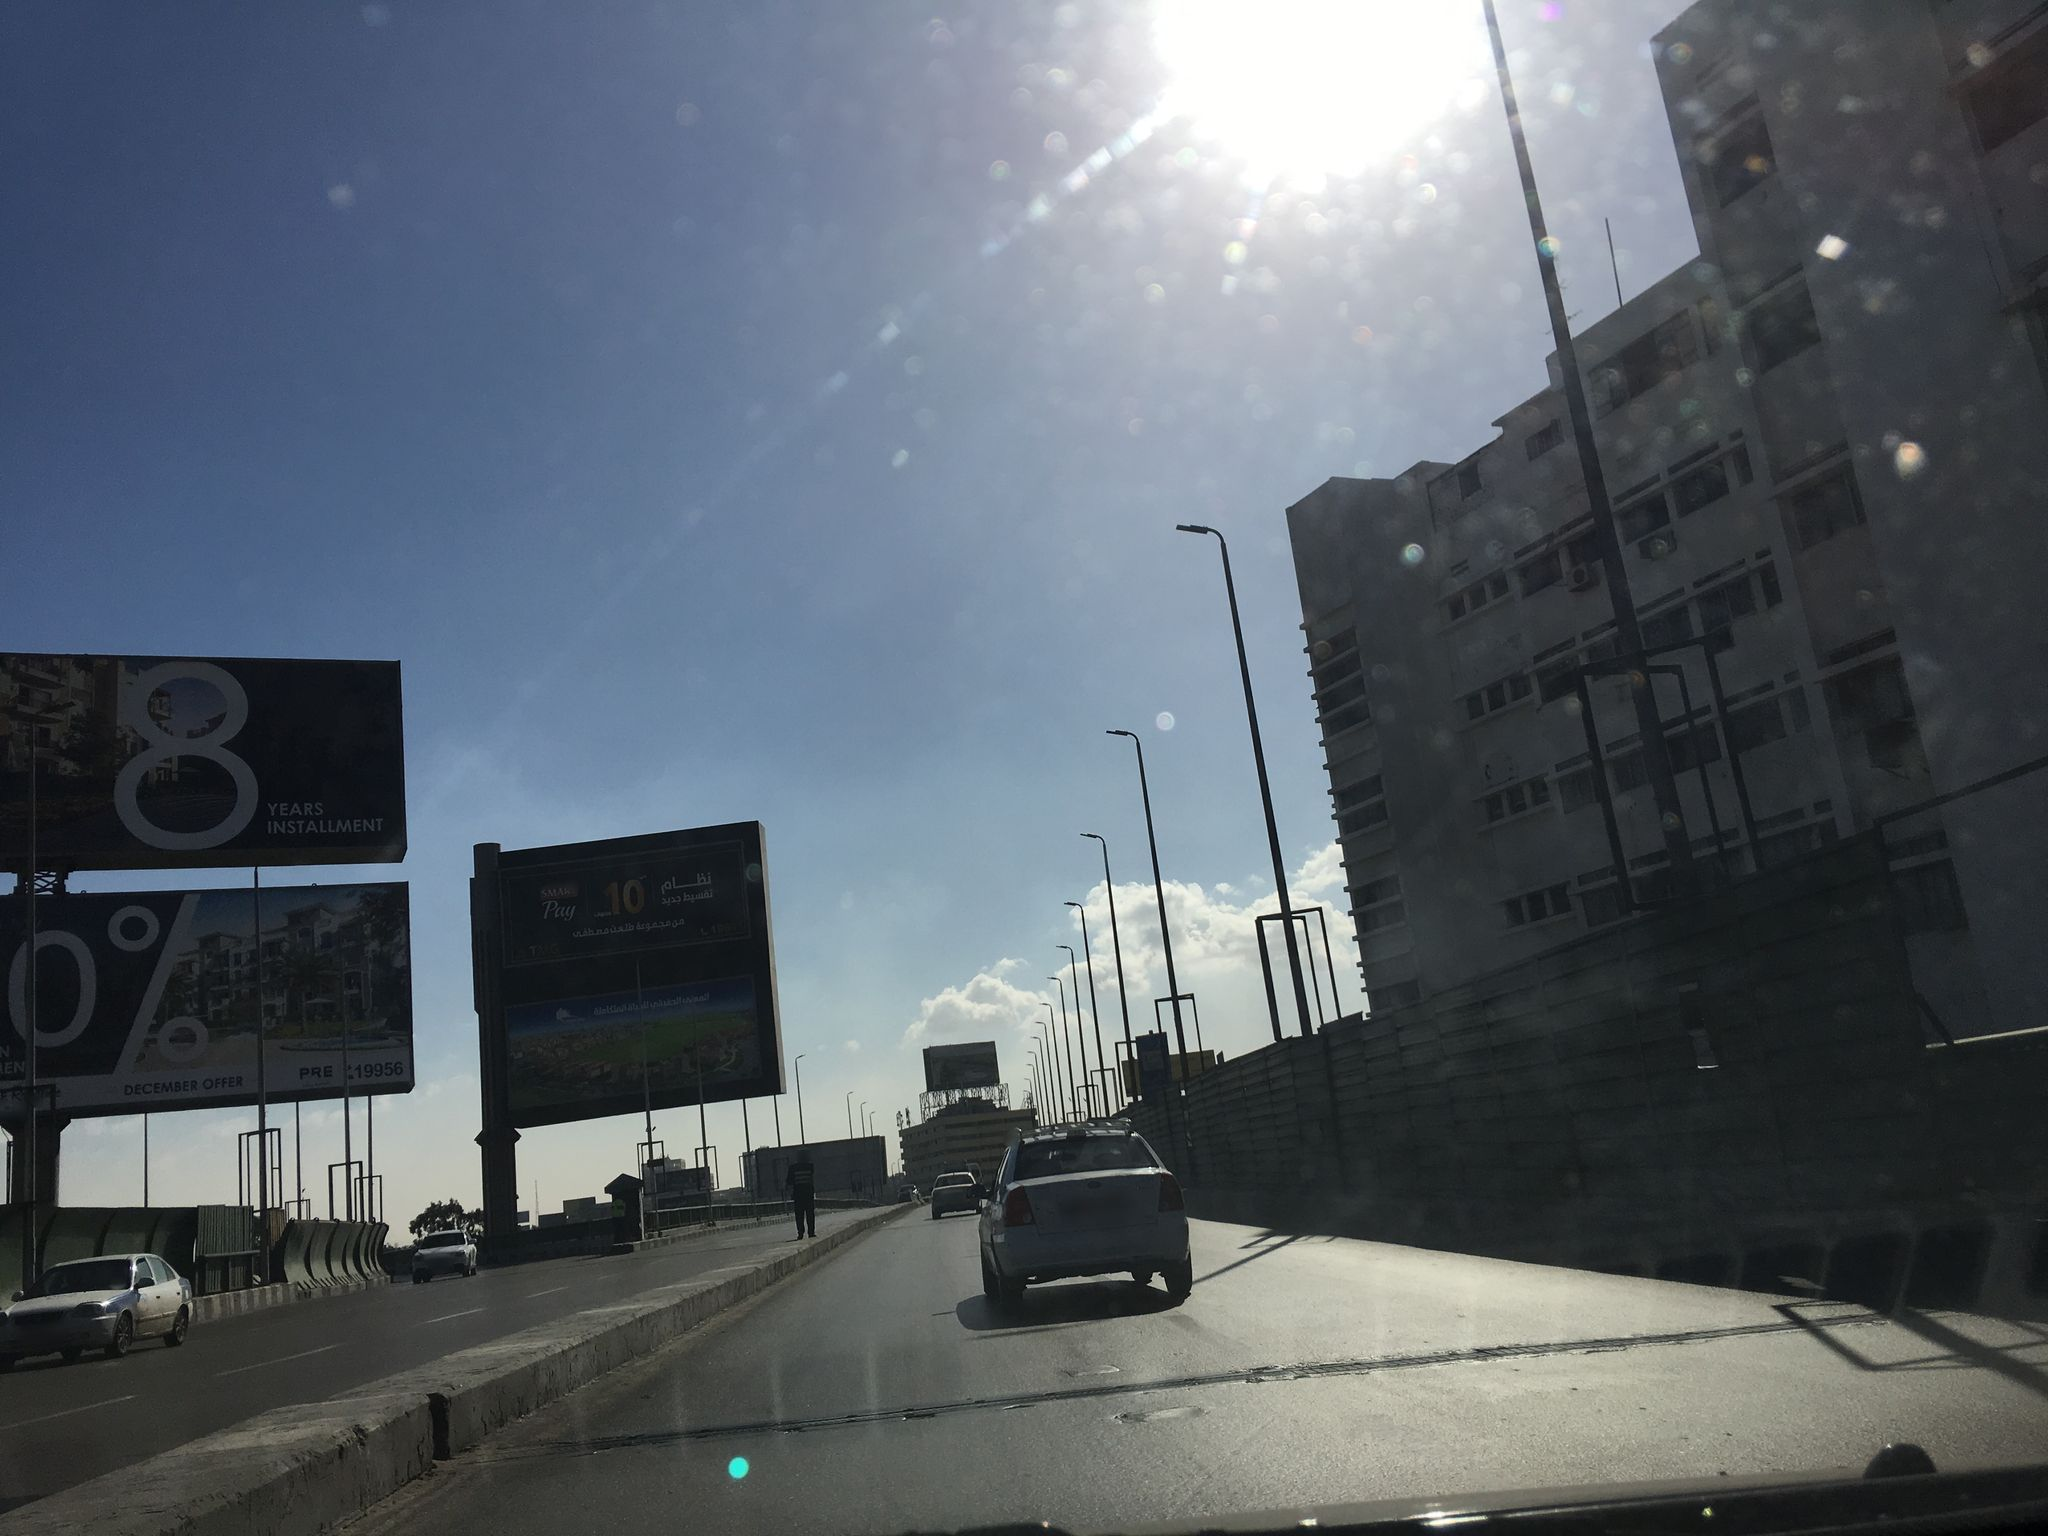car: (964, 1115, 1193, 1315), (0, 1254, 195, 1362), (411, 1229, 477, 1283), (930, 1171, 982, 1220)
